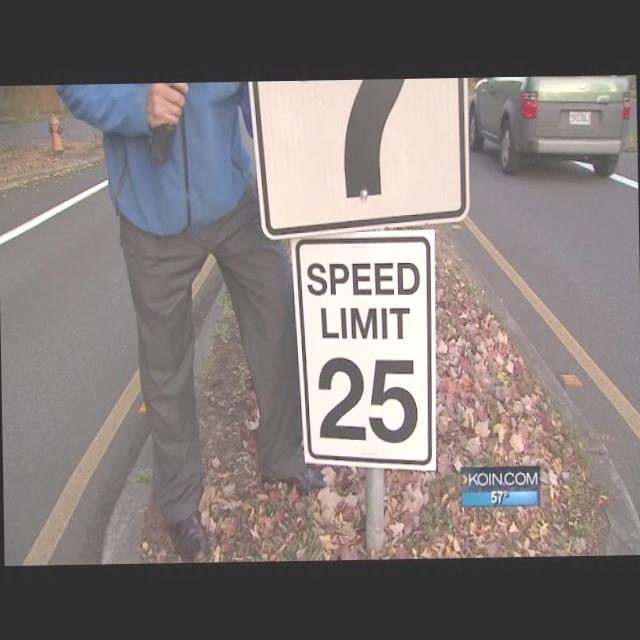Speed Limit Signs: (292, 230, 438, 473)
